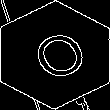O_SE: (19, 22, 91, 88)
